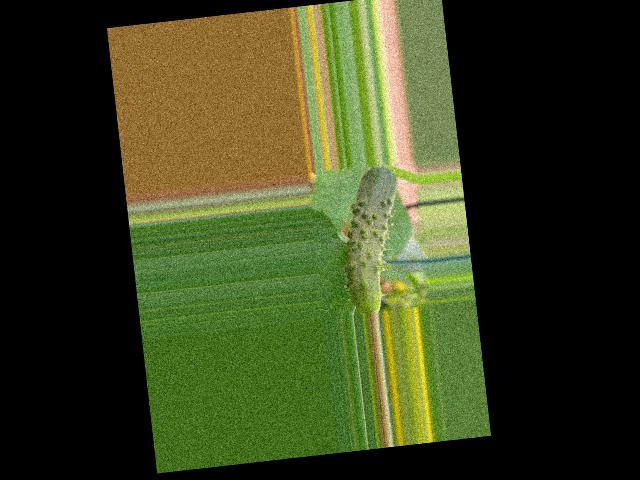cucumber: (333, 164, 410, 315)
